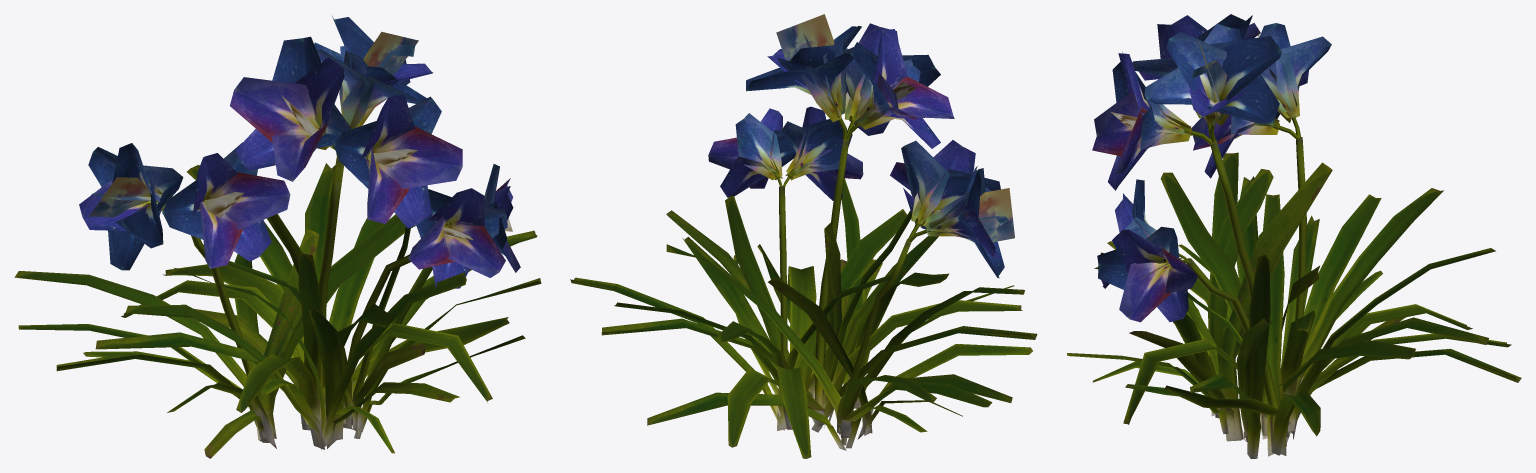
Rendered from Amaryllis_bush_short_lightblue.glb.
3 views of the same model, side by side, from view 1: azimuth 30°, elevation 25°; view 2: azimuth 150°, elevation 25°; view 3: azimuth 270°, elevation 25° (orthographic). The views are drawn at different scales.
Parts seen in each view (by area): view 1: bush; view 2: bush; view 3: bush.
Part boxes in pixels (<box>): bush: <box>14,16,541,458</box>; bush: <box>570,14,1037,458</box>; bush: <box>1067,14,1521,458</box>.
Bounding box in the file's own units: 2.76 × 2.32 × 2.27.
Materials: 1 (1 with a texture image).
